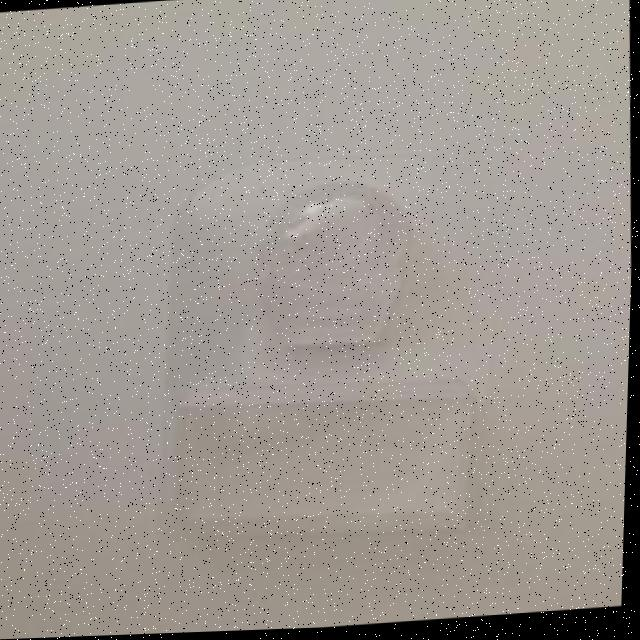plastic: (149, 140, 519, 545)
